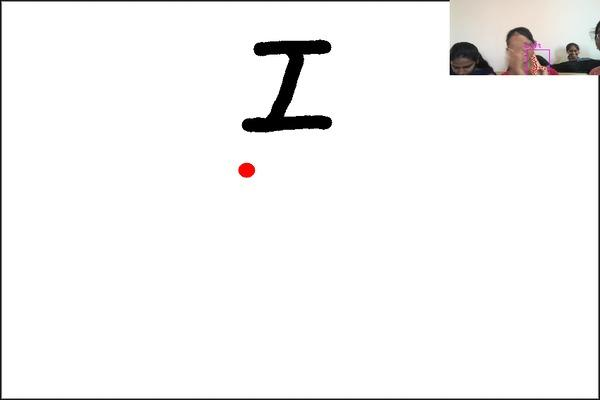i: (237, 30, 340, 137)
